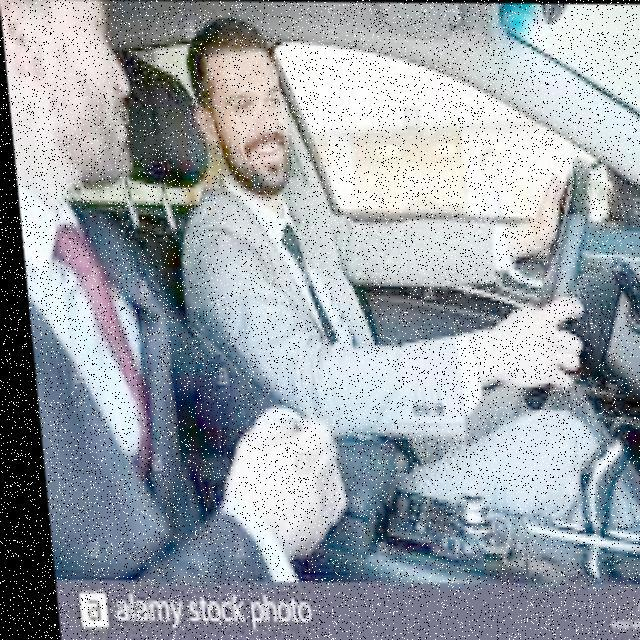noSeatbelt: (12, 158, 223, 590), (188, 168, 388, 418)
